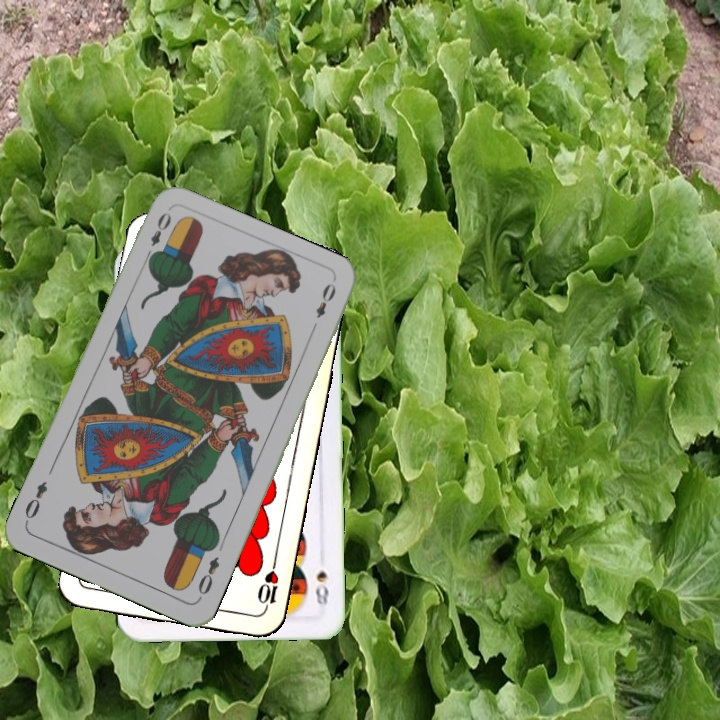EO: (141, 208, 174, 263), (194, 552, 222, 602)
H10: (253, 556, 282, 615)
S8: (311, 566, 332, 608)
